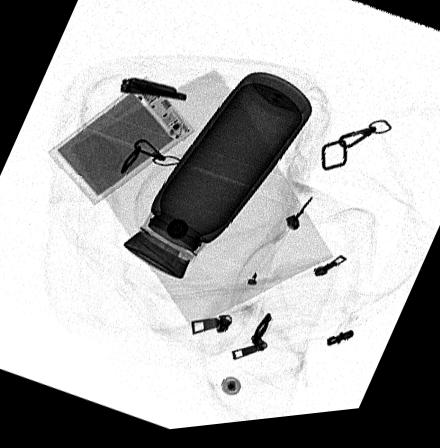Powerbank: (47, 78, 197, 207)
